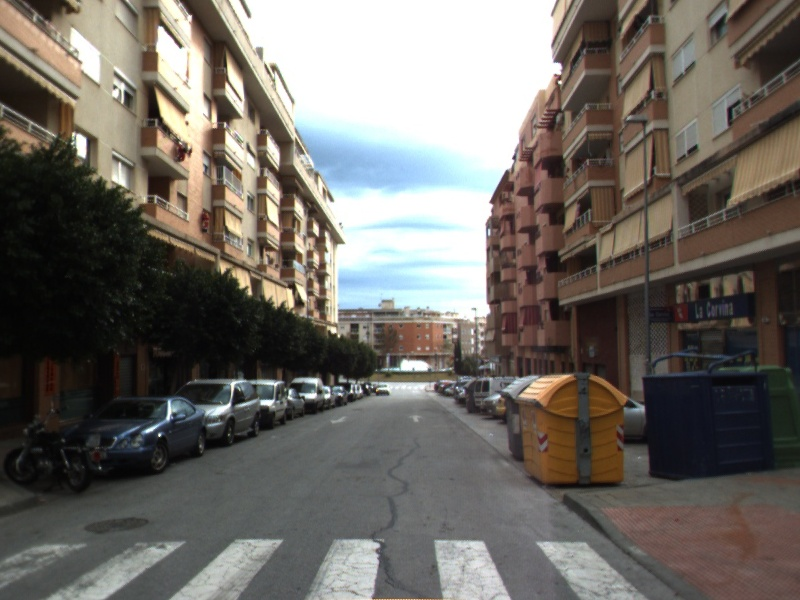STRAIGHT: (406, 412, 425, 424)
